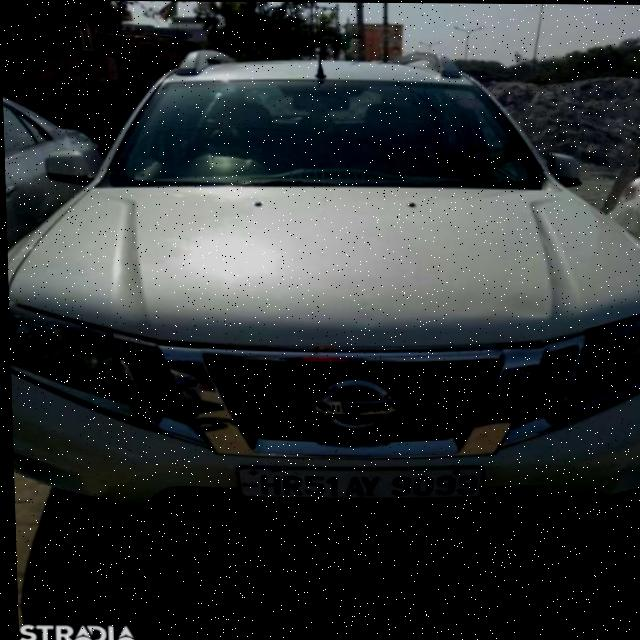plate: (232, 463, 482, 500)
